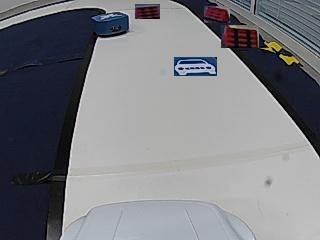prop: (92, 13, 129, 37)
